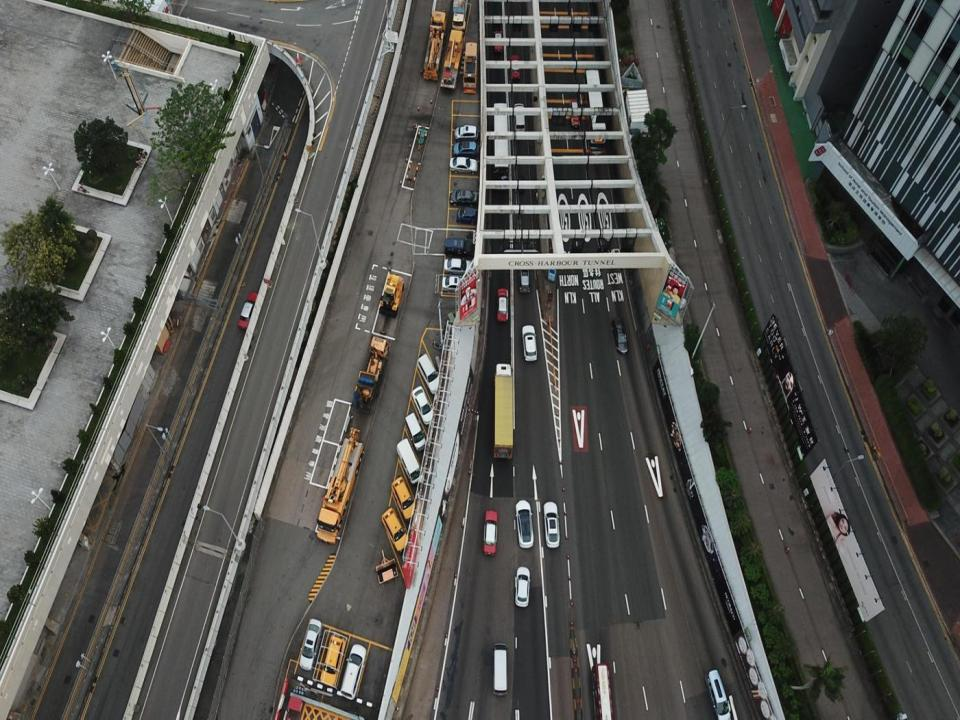bus: (582, 69, 606, 156), (592, 663, 614, 719), (494, 102, 508, 189)
car: (300, 620, 322, 672), (515, 499, 533, 549), (411, 386, 434, 424), (238, 292, 259, 328), (544, 501, 560, 547), (483, 510, 498, 555), (515, 566, 530, 606), (521, 324, 537, 361), (612, 317, 627, 355), (449, 188, 477, 207), (449, 156, 477, 175), (444, 258, 473, 276), (442, 275, 470, 292), (496, 288, 509, 322), (457, 207, 477, 224), (569, 99, 580, 127), (509, 54, 520, 80), (512, 174, 525, 194), (494, 31, 502, 52)
truck: (316, 426, 364, 543), (353, 336, 389, 411), (494, 362, 513, 458), (423, 8, 446, 82), (440, 29, 464, 89), (463, 41, 477, 93), (452, 0, 468, 34)
van: (318, 635, 347, 687), (341, 644, 366, 699), (382, 506, 410, 554), (704, 669, 730, 719), (396, 439, 423, 485), (391, 476, 417, 521), (417, 352, 443, 395), (492, 642, 509, 696), (404, 412, 426, 452), (444, 236, 476, 258), (452, 141, 478, 158), (454, 124, 477, 143), (518, 262, 529, 294), (513, 103, 524, 132)
